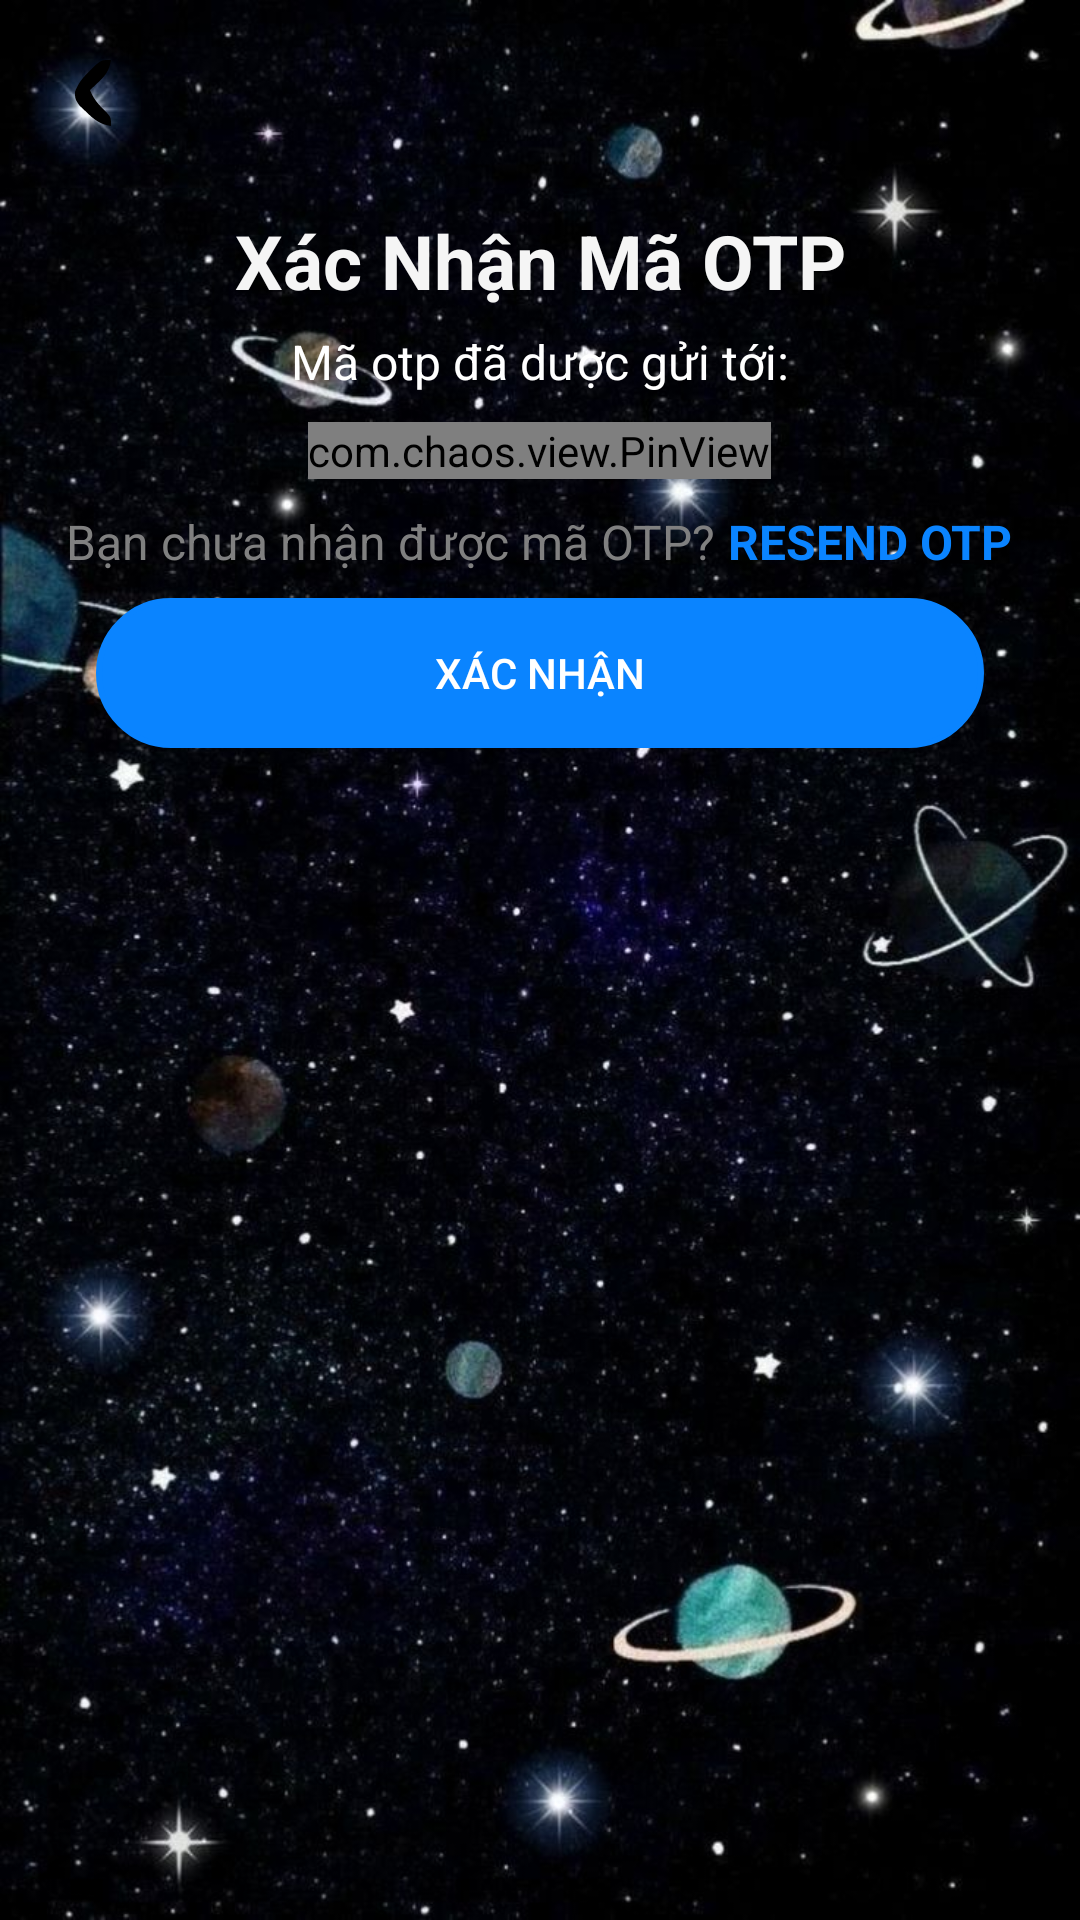

Locate icon controls on the screen. Image size 1080×1920, boxes as (x1, y1, x2, y2).
arrowback: (17, 30, 176, 185)
